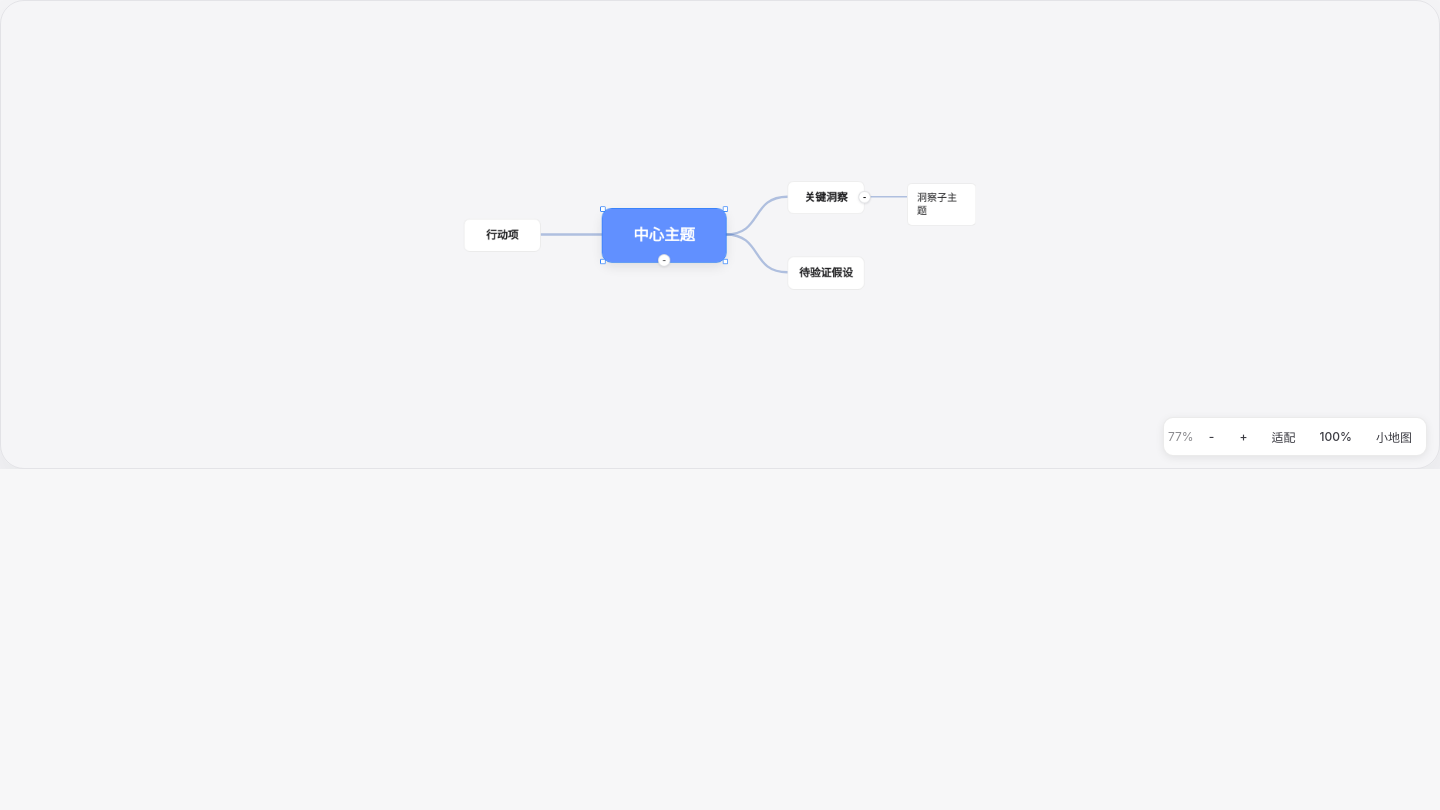
Test: opens floating search and selects the matching topic
Press f
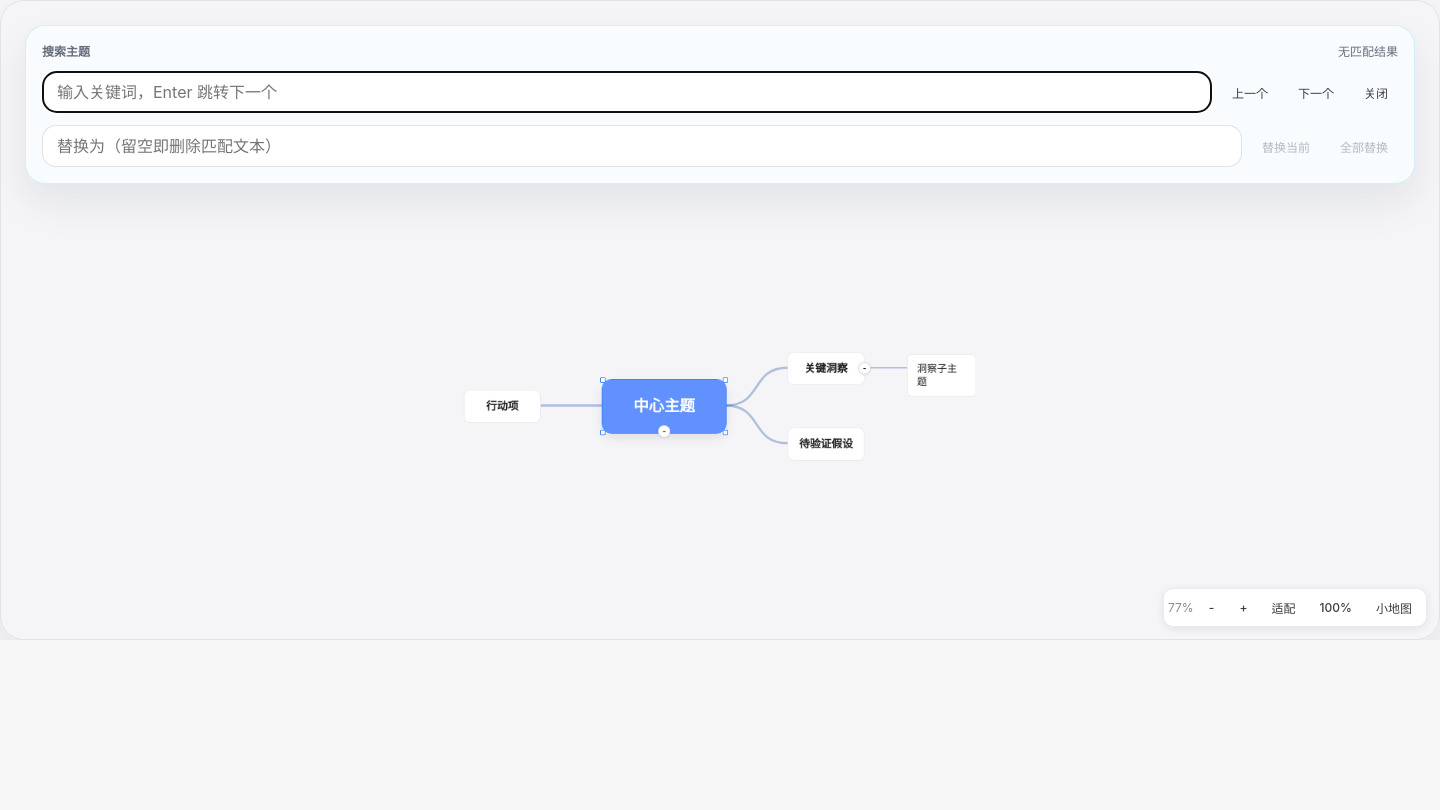
Type "待验证" into the field named "搜索主题" at (627, 92), box [42,71,1212,113]
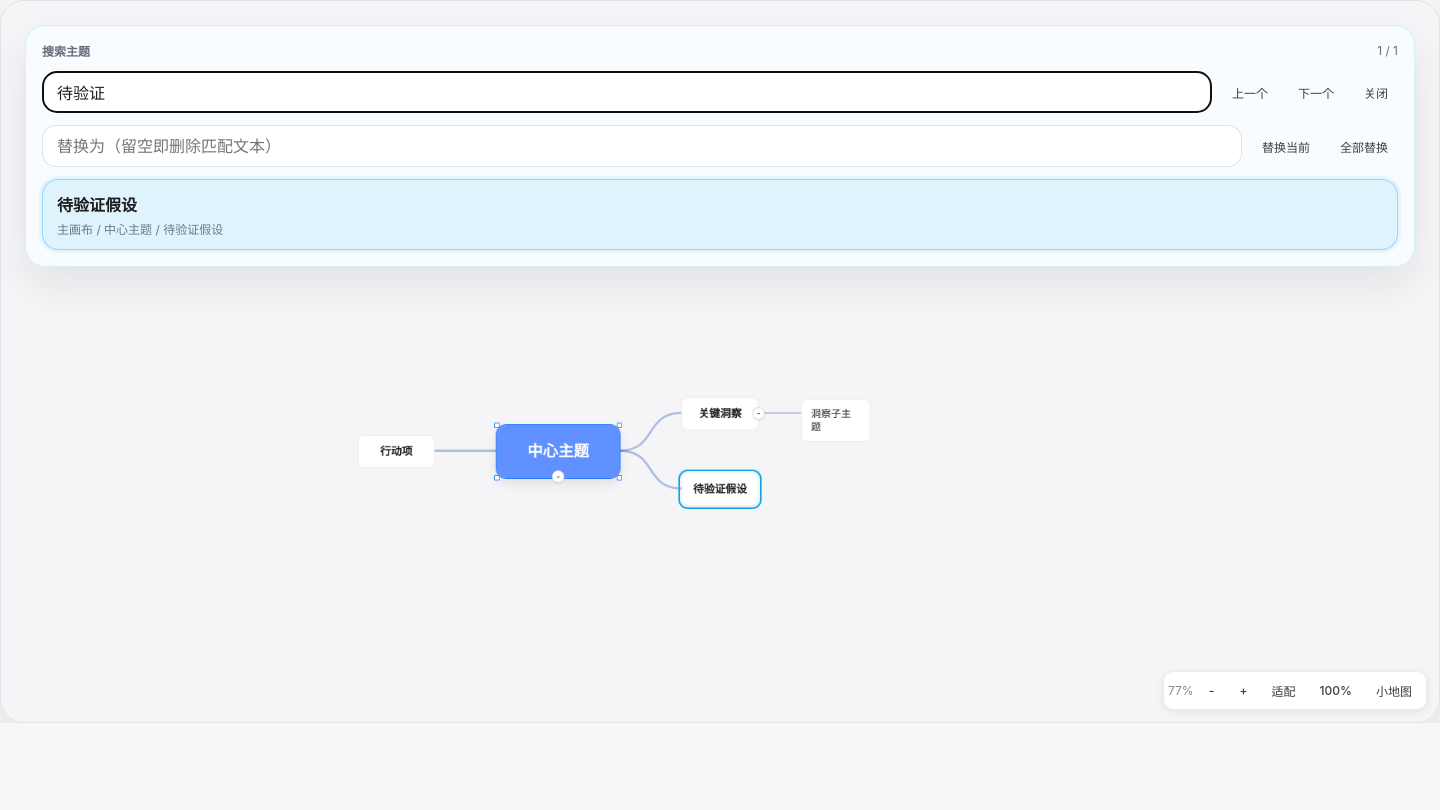
Expected: the text "1 / 1" is shown, [1377,43,1398,58]
Expected: the button "待验证假设 主画布 / 中心主题 / 待验证假设" is shown, [42,179,1398,250]
